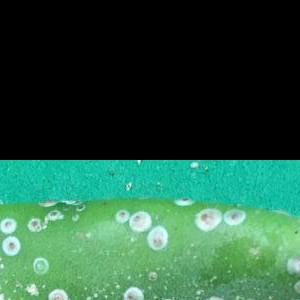Femea: (198, 210, 215, 227), (132, 212, 149, 227), (150, 232, 163, 247), (4, 238, 17, 252), (2, 220, 15, 233), (228, 212, 240, 224), (29, 218, 40, 231), (124, 291, 141, 299), (45, 210, 60, 219), (117, 210, 127, 220)
